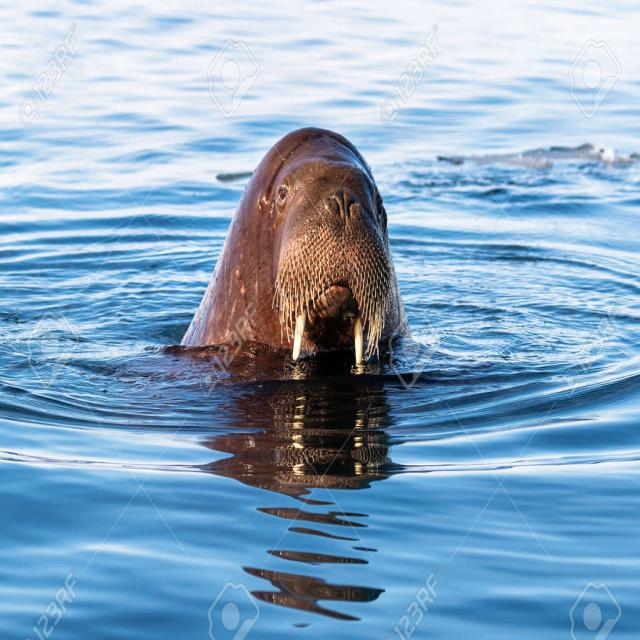walrus: (188, 91, 415, 392)
